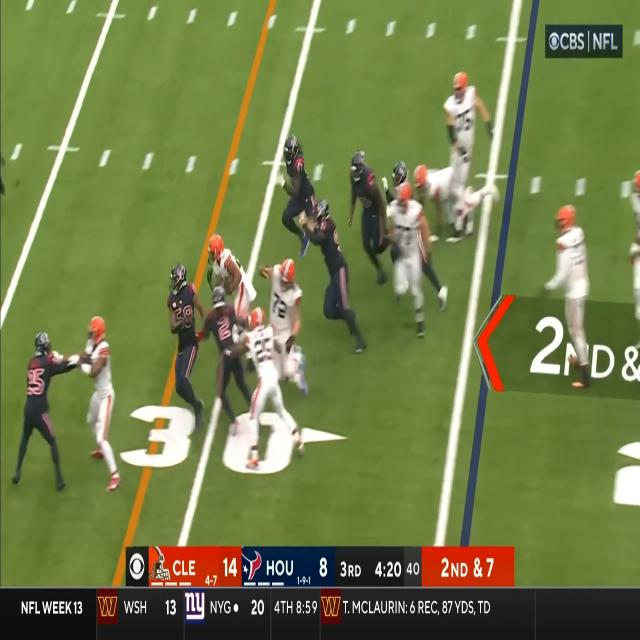football: (223, 272, 234, 294)
players: (228, 308, 305, 467), (300, 200, 367, 353), (68, 316, 122, 489), (541, 208, 591, 390), (198, 286, 258, 428), (446, 71, 494, 234), (14, 334, 64, 490), (414, 162, 501, 236), (168, 263, 206, 429), (388, 184, 428, 337), (347, 152, 391, 284), (275, 136, 319, 256), (260, 259, 300, 378), (205, 235, 255, 325)
